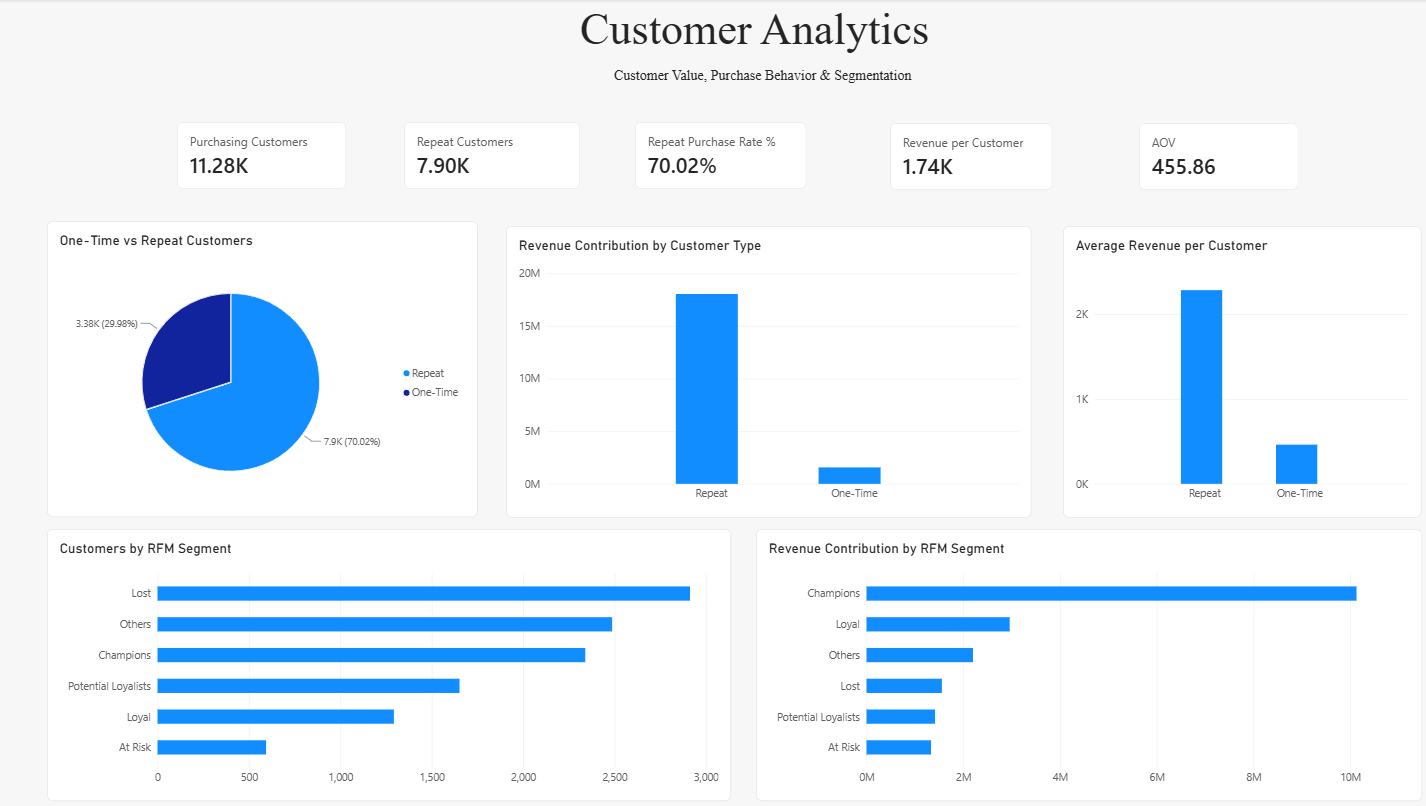

This screenshot's page, from the dashboard's own definition file:
{"tool":"powerbi","page":{"name":"Customer Analytics","canvas":[1920,1080],"ordinal":2},"visuals":[{"type":"textbox","box":[786.4,7.3,500.5,83.7],"z":0},{"type":"textbox","box":[831.6,90.5,409.4,46.3],"z":1000},{"type":"cardVisual","fields":{"Data":["_Measures.Purchasing Customers"]},"box":[249.5,163.4,225.6,89.6],"z":2000},{"type":"cardVisual","fields":{"Data":["_Measures.Repeat Customers"]},"box":[551.5,163.4,234.6,89.6],"z":3000},{"type":"cardVisual","fields":{"Data":["_Measures.Repeat Purchase Rate %"]},"box":[859.3,163.4,228.6,89.6],"z":4000},{"type":"cardVisual","fields":{"Data":["_Measures.Revenue per Customer"]},"box":[1197.8,164.9,216.7,89.6],"z":5000},{"type":"cardVisual","fields":{"Data":["_Measures.AOV"]},"box":[1529,164.9,212.2,89.6],"z":6000},{"type":"pieChart","title":"One-Time vs Repeat Customers","fields":{"Category":["customers.Customer Purchase Type"],"Y":["Count(customers.customer_id)"]},"box":[77.3,295.5,572.8,394],"z":7000},{"type":"clusteredColumnChart","title":"Revenue Contribution by Customer Type","fields":{"Category":["customers.Customer Purchase Type"],"Y":["_Measures.Total Revenue"]},"box":[688,301.6,698.6,387.9],"z":8000},{"type":"clusteredColumnChart","title":"Average Revenue per Customer","fields":{"Category":["customers.Customer Purchase Type"],"Y":["_Measures.Revenue per Customer"]},"box":[1429,301.6,477.3,387.9],"z":9000},{"type":"clusteredBarChart","title":"Customers by RFM Segment","fields":{"Category":["customer_rfm.rfm_segment"],"Y":["Count(customer_rfm.customer_id)"]},"box":[77.3,704.7,910.4,361.8],"z":10000},{"type":"clusteredBarChart","title":"Revenue Contribution by RFM Segment","fields":{"Category":["customer_rfm.rfm_segment"],"Y":["Sum(customer_rfm.monetary)"]},"box":[1019.8,704.7,885.6,361.8],"z":11000}]}

Visuals, with their boxes in screenshot pixels (x1, y1, x2, y2), scaled from the page's 1920x1080 canvas onto the 1426x806 screenshot:
textbox: [left=584, top=5, right=956, bottom=68]
textbox: [left=618, top=68, right=922, bottom=102]
cardVisual - _Measures.Purchasing Customers: [left=185, top=122, right=353, bottom=189]
cardVisual - _Measures.Repeat Customers: [left=410, top=122, right=584, bottom=189]
cardVisual - _Measures.Repeat Purchase Rate %: [left=638, top=122, right=808, bottom=189]
cardVisual - _Measures.Revenue per Customer: [left=890, top=123, right=1051, bottom=190]
cardVisual - _Measures.AOV: [left=1136, top=123, right=1293, bottom=190]
"One-Time vs Repeat Customers" pieChart: [left=57, top=221, right=483, bottom=515]
"Revenue Contribution by Customer Type" clusteredColumnChart: [left=511, top=225, right=1030, bottom=515]
"Average Revenue per Customer" clusteredColumnChart: [left=1061, top=225, right=1416, bottom=515]
"Customers by RFM Segment" clusteredBarChart: [left=57, top=526, right=734, bottom=796]
"Revenue Contribution by RFM Segment" clusteredBarChart: [left=757, top=526, right=1415, bottom=796]
